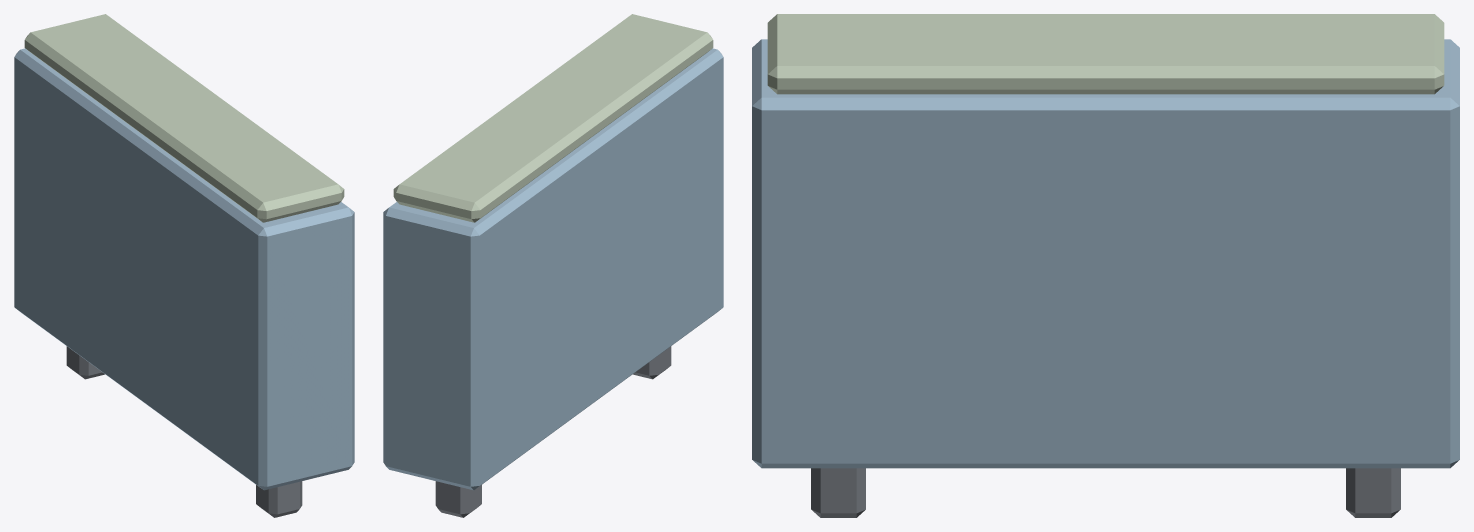
File: Arm_1.glb
3 views of the same model, side by side, from view 1: azimuth 30°, elevation 25°; view 2: azimuth 150°, elevation 25°; view 3: azimuth 270°, elevation 25° (orthographic). The views are drawn at different scales.
Visible parts, largest first — view 1: Sofa_Arm_1_Body; view 2: Sofa_Arm_1_Body; view 3: Sofa_Arm_1_Body.
Boxes of the visible parts, x1=… form: Sofa_Arm_1_Body: x1=14, y1=14, x2=354, y2=517; Sofa_Arm_1_Body: x1=383, y1=14, x2=723, y2=517; Sofa_Arm_1_Body: x1=752, y1=14, x2=1459, y2=517.
Bounding box in the file's own units: 0.2 × 0.66 × 0.9.
